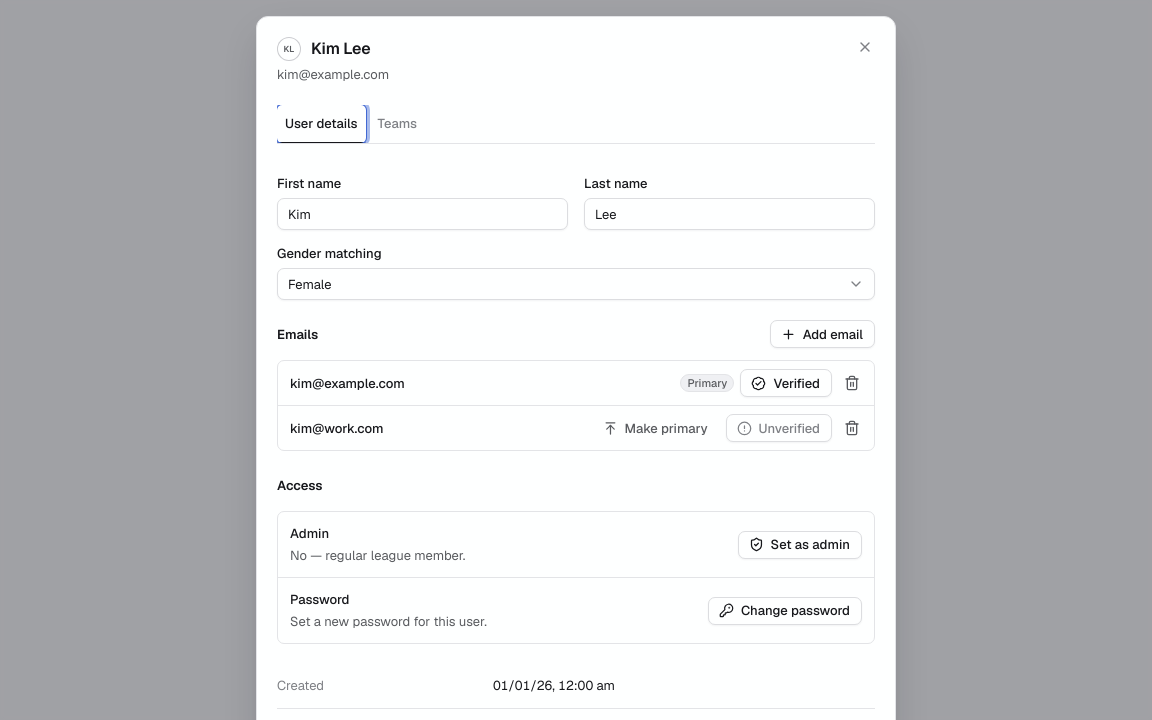
Test: UserDialog emails › adds an email
Click the button "Add email". click: (822, 334)
box: left=770, top=320, right=875, bottom=348
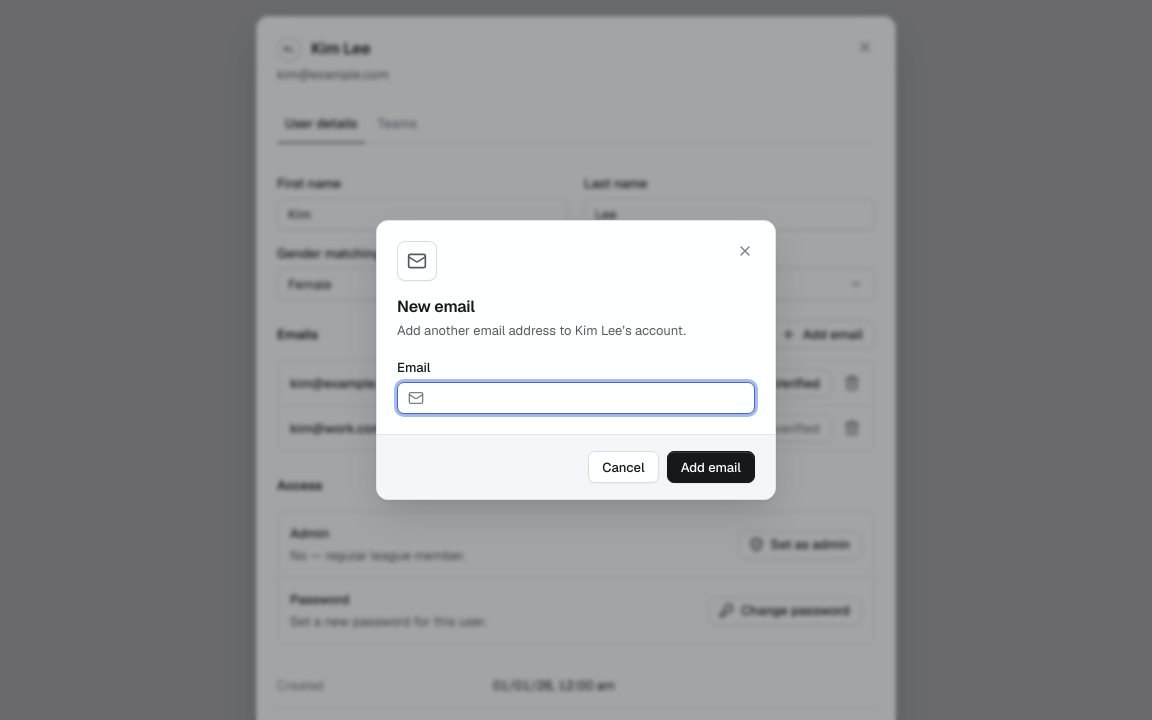
Type "kim@new.com" into the field labelled "Email". click: (588, 398)
box: left=432, top=383, right=744, bottom=413
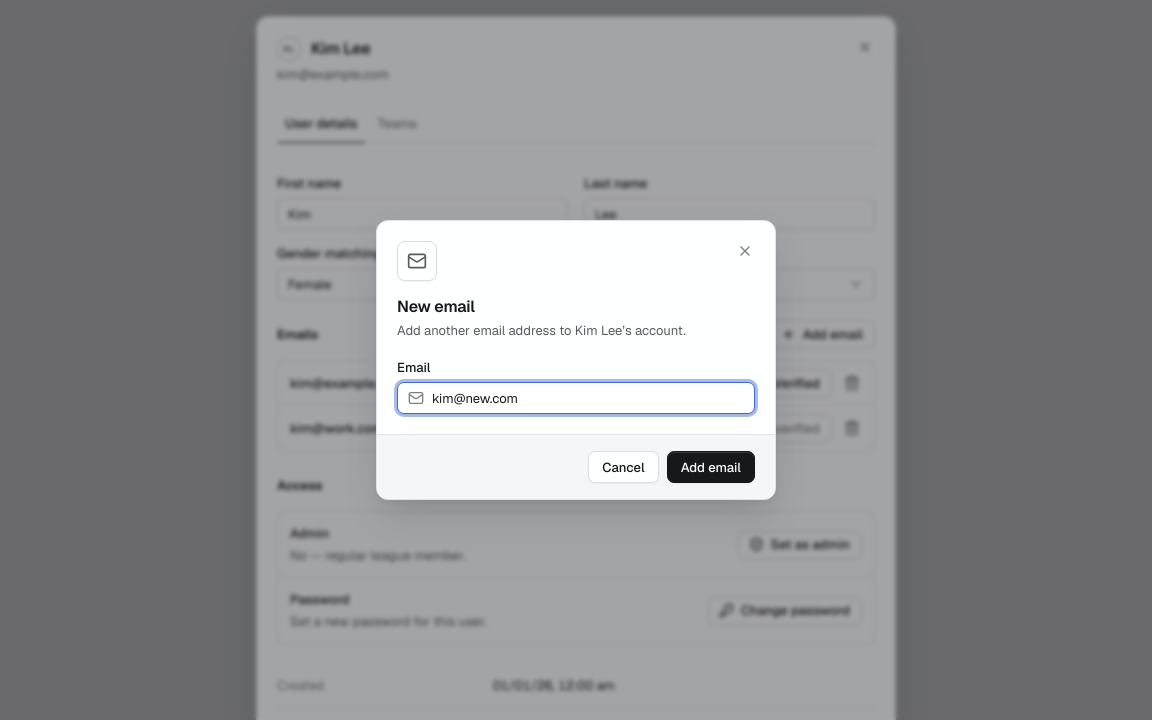
Click the button "Add email". click: (711, 467)
box: left=667, top=451, right=755, bottom=483
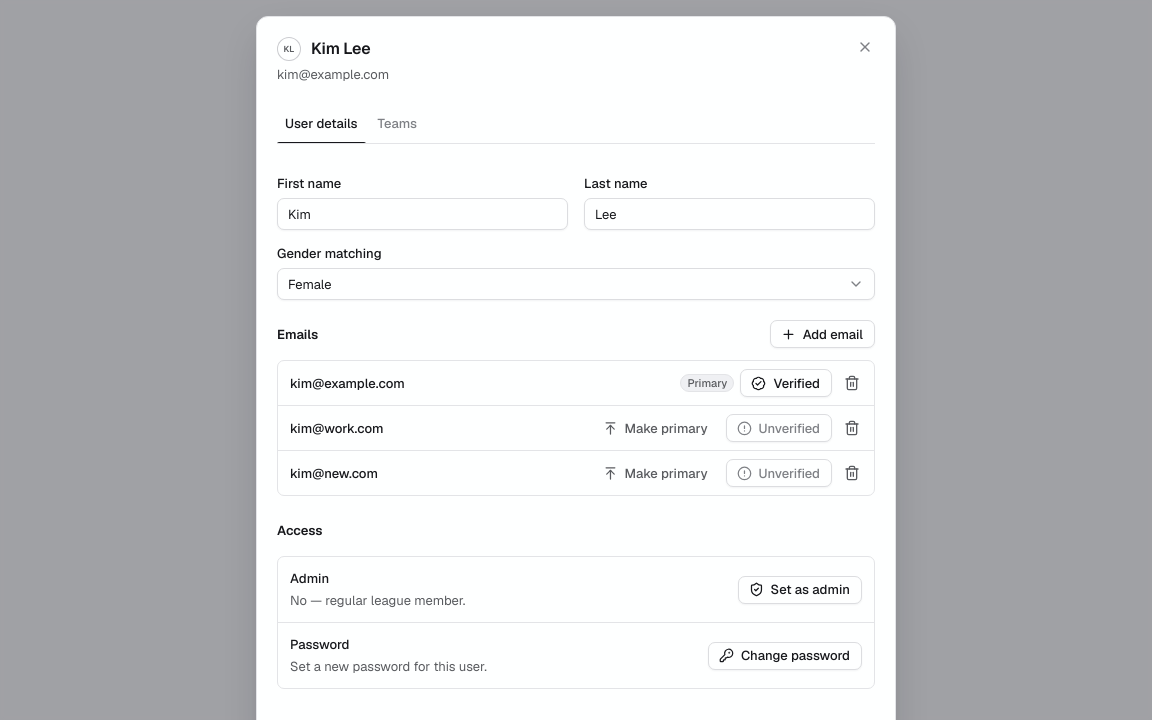
Expected: the text "kim@new.com" is shown, left=290, top=465, right=378, bottom=482
